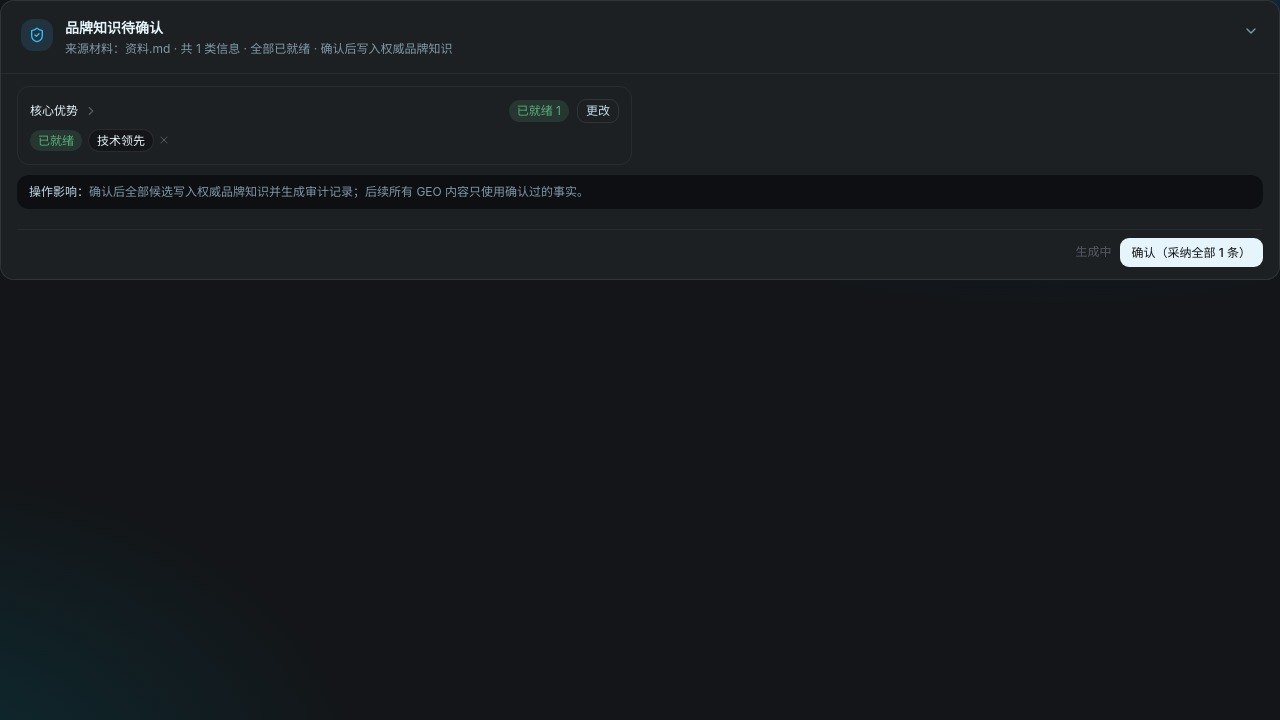
it: KnowledgeBatchCard（字段行复核卡） › 行内不显示摘录与置信度，展开详情才可见依据
Check: the text "核心技术行业领先" is not shown
Check: the text "90%" is not shown
Click the button "核心优势": (54,111) [30,102,501,120]
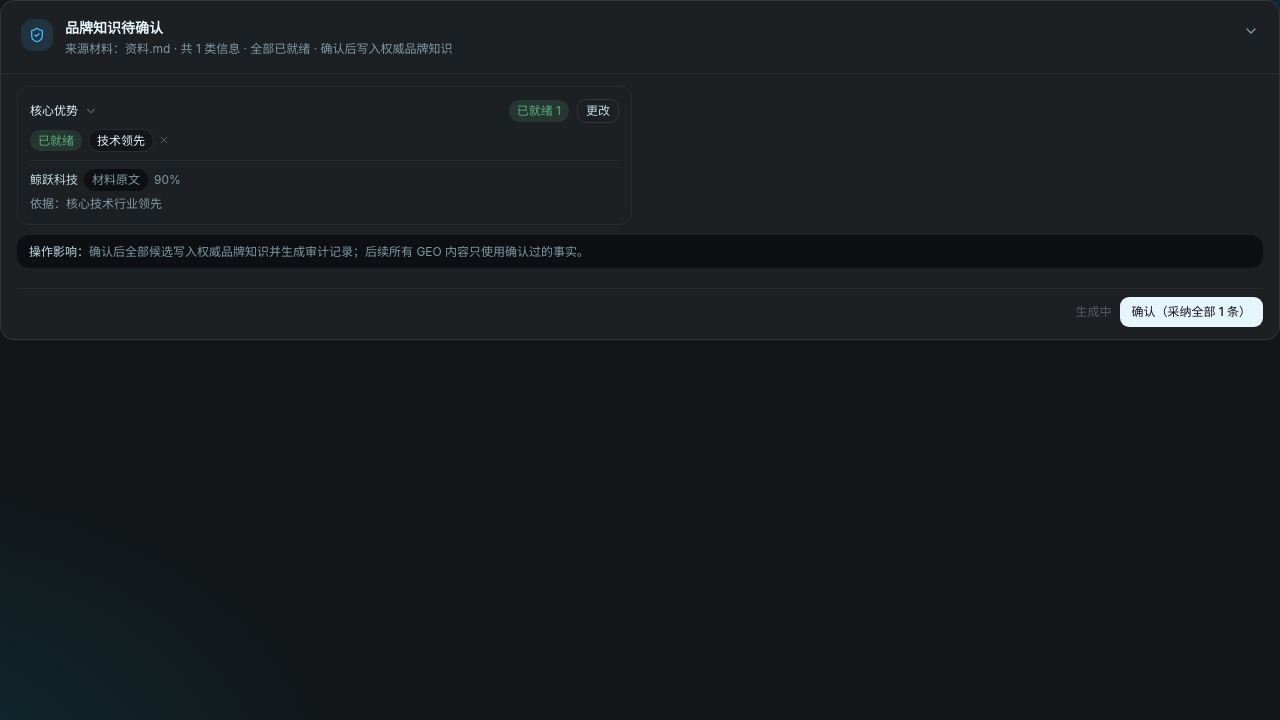
Check: the text "依据：" is shown, box [30,196,66,211]
Check: the text "核心技术行业领先" is shown, box [66,196,162,211]
Check: the text "90%" is shown, box [154,171,181,189]
